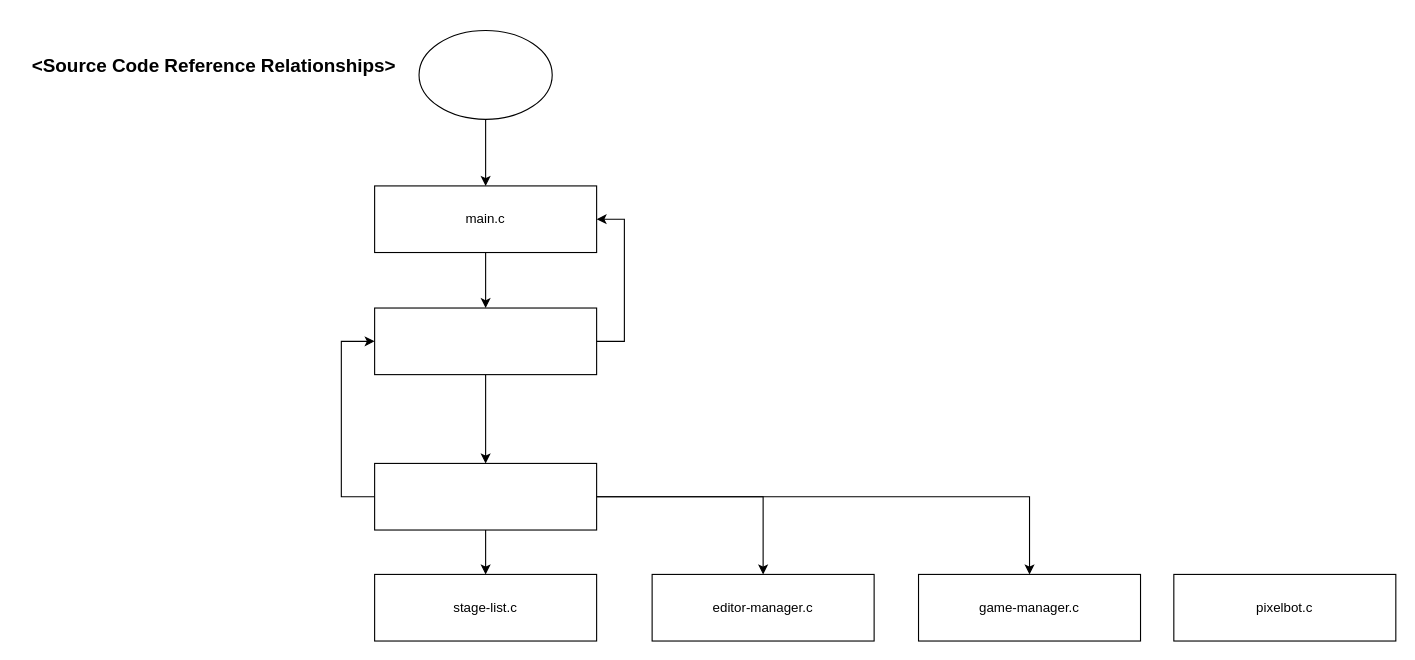
Image size: 1415x660. Some labels were removed from this diagram. The shapes that lost their labels are listed below. From the top down, each one's centre as x and y in pixels, then its label:
[485,74]: Start
[485,341]: lobby.c
[485,496]: stage.c
